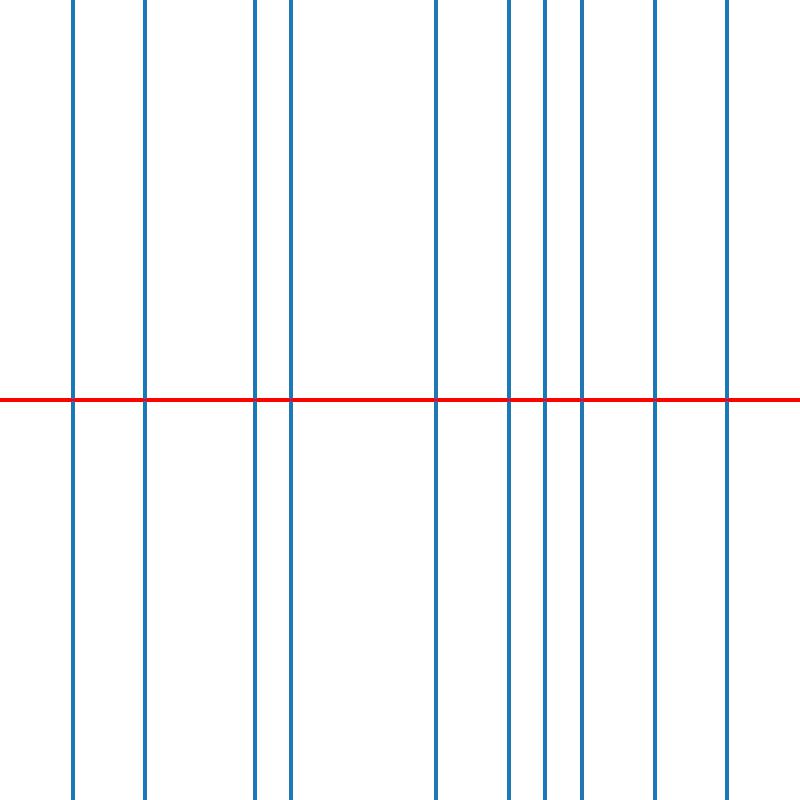root: (432, 396, 440, 404), (250, 396, 258, 404), (650, 396, 658, 404), (141, 396, 149, 404), (541, 396, 549, 404), (287, 396, 294, 404), (578, 396, 585, 404), (69, 396, 76, 404), (505, 396, 512, 404), (723, 396, 730, 404)
